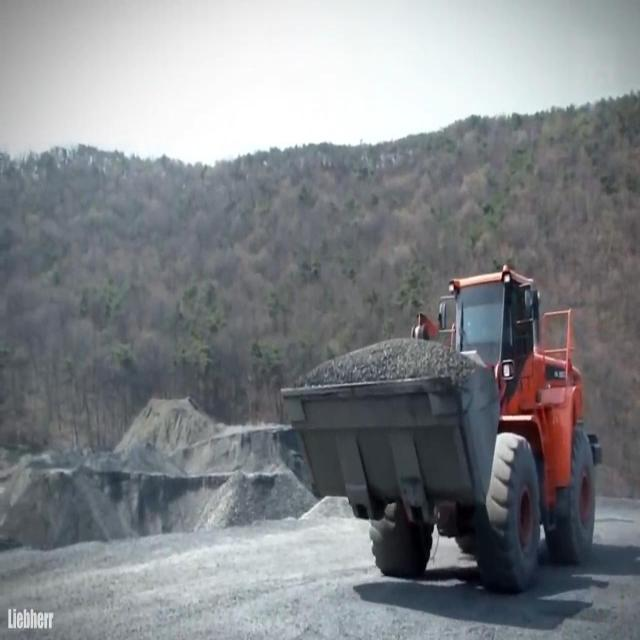pala cargadora: (276, 259, 604, 593)
